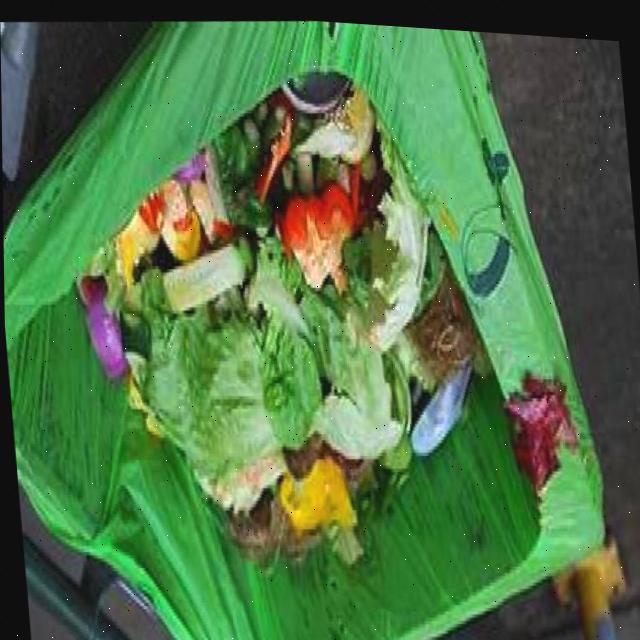Garbage: (73, 62, 493, 561), (502, 368, 576, 486)
Metal: (281, 67, 349, 109)
Plastic: (161, 233, 251, 311), (409, 356, 470, 450)
